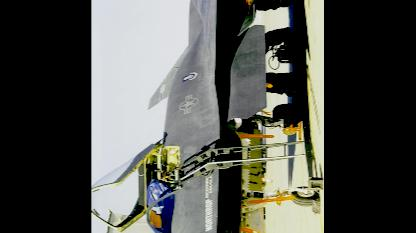US2: (92, 0, 321, 232)
